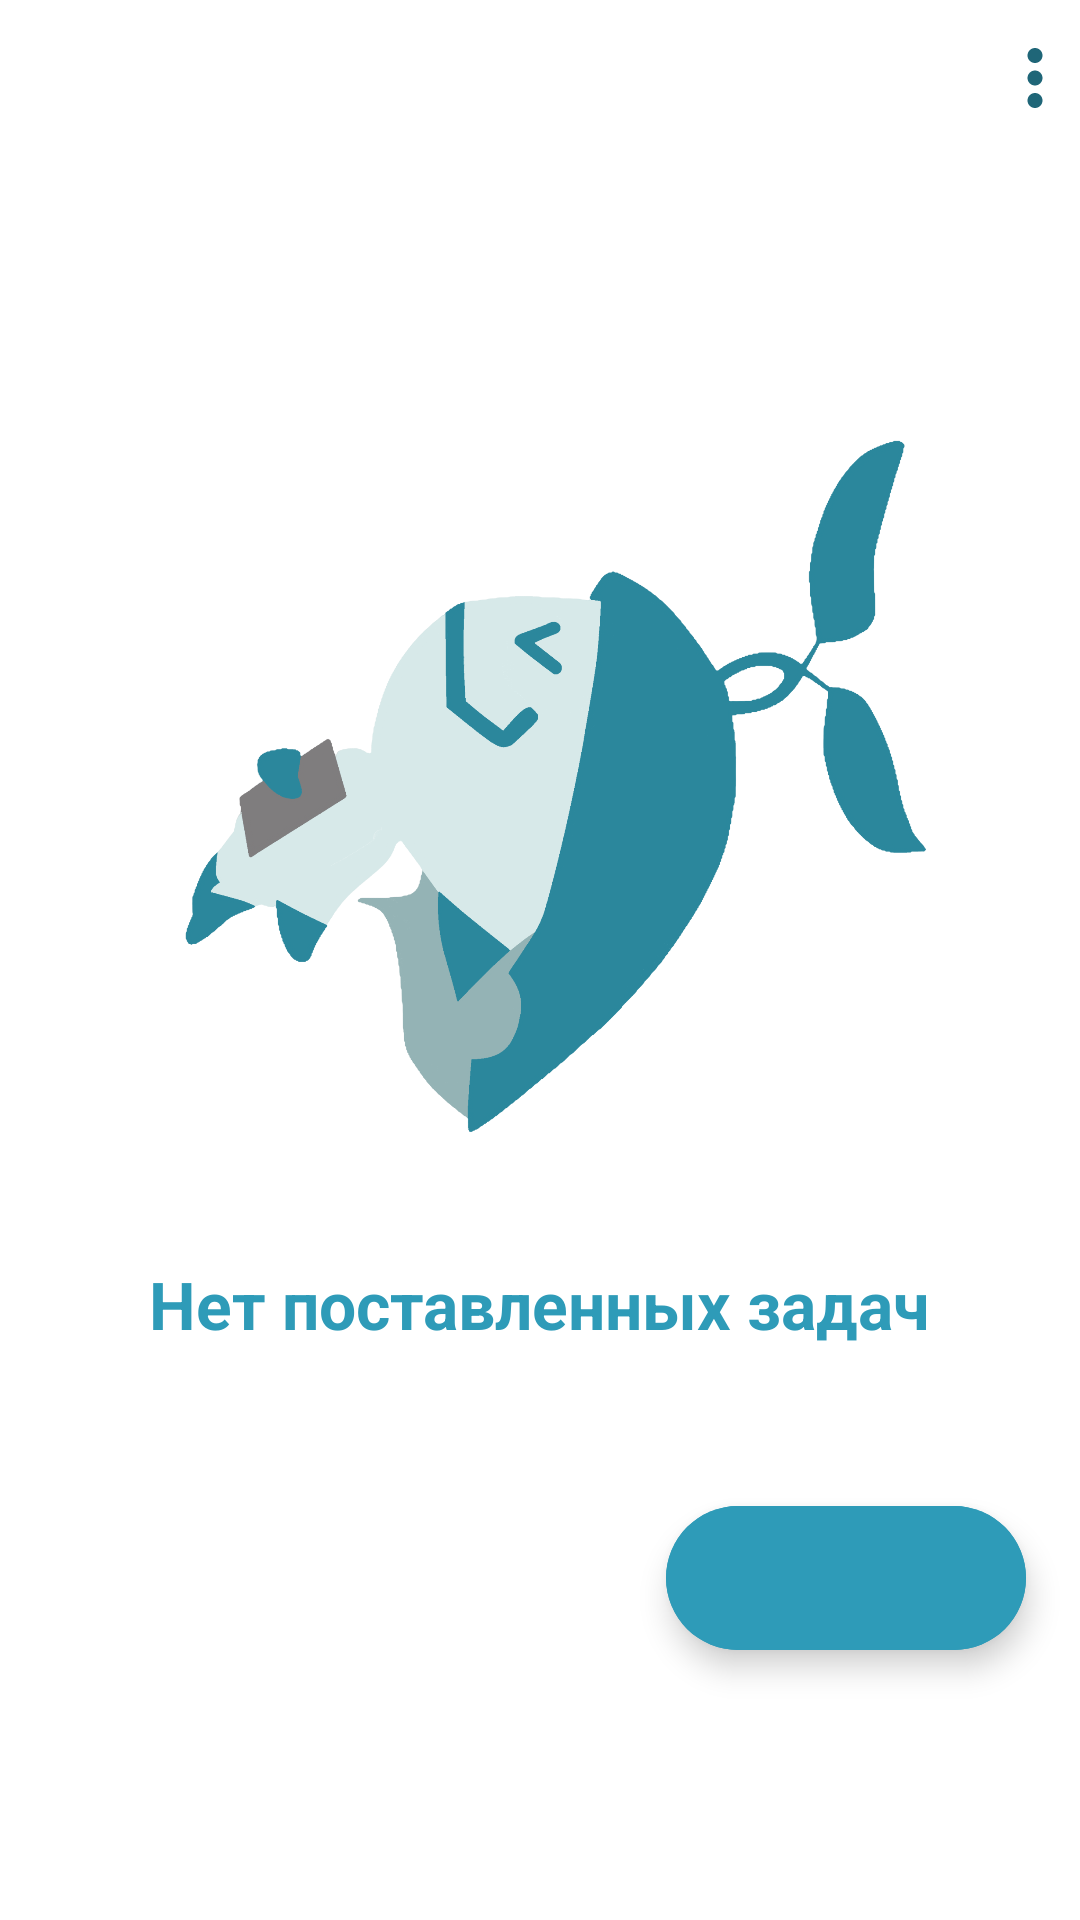

Screen size 1080×1920. Icon name, then its box in pixels as {"left": x1, "top": y1, "right": x2, "bottom": y2}:
dots: {"left": 1027, "top": 48, "right": 1043, "bottom": 108}
